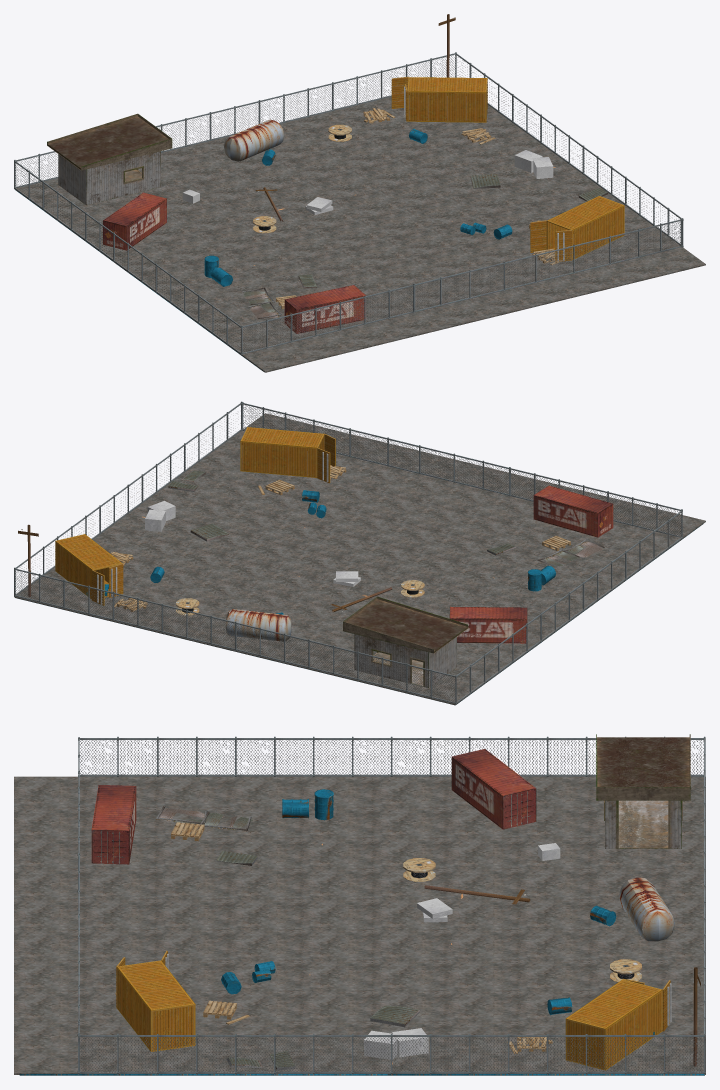
File: Environment 3.fbx
The picture shows the model from 3 angles, top to bottom: view 1: azimuth 30°, elevation 25°; view 2: azimuth 150°, elevation 25°; view 3: azimuth 270°, elevation 25°; orthographic projection. The views are drawn at different scales.
Parts seen in each view (by area): view 1: Cube_1_texture_4_0, fence_001_6_env_texture_1_0, Cube_DefaultMaterial_0, container_8_atlas_factory_0, container_6_atlas_factory_0, default_16_006_Cargo0_0, default_16_001_Cargo0_0, default_16_004_Tank_0, default_16_003_Fence_0; view 2: Cube_1_texture_4_0, fence_001_6_env_texture_1_0, Cube_DefaultMaterial_0, container_6_atlas_factory_0, default_16_006_Cargo0_0, default_16_001_Cargo0_0, container_8_atlas_factory_0, default_16_004_Tank_0, default_16_003_Fence_0; view 3: Cube_1_texture_4_0, fence_001_6_env_texture_1_0, Cube_DefaultMaterial_0, container_8_atlas_factory_0, container_6_atlas_factory_0, default_16_001_Cargo0_0, default_16_006_Cargo0_0, default_16_004_Tank_0, ground_debris6_001_texture_4_0, default_16_003_Fence_0, box_env_texture_1_0, box1_env_texture_1_0 (+4 smaller).
Boxes of the visible parts, <box> form: Cube_1_texture_4_0: <box>15,96,705,372</box>; fence_001_6_env_texture_1_0: <box>14,52,683,354</box>; Cube_DefaultMaterial_0: <box>47,113,172,205</box>; container_8_atlas_factory_0: <box>407,77,487,122</box>; container_6_atlas_factory_0: <box>546,196,624,259</box>; default_16_006_Cargo0_0: <box>284,285,365,333</box>; default_16_001_Cargo0_0: <box>103,192,166,250</box>; default_16_004_Tank_0: <box>224,119,284,161</box>; default_16_003_Fence_0: <box>242,287,281,319</box>; Cube_1_texture_4_0: <box>14,413,705,705</box>; fence_001_6_env_texture_1_0: <box>14,401,682,704</box>; Cube_DefaultMaterial_0: <box>343,596,468,688</box>; container_6_atlas_factory_0: <box>240,427,324,477</box>; default_16_006_Cargo0_0: <box>533,485,613,537</box>; default_16_001_Cargo0_0: <box>449,606,527,643</box>; container_8_atlas_factory_0: <box>55,534,122,599</box>; default_16_004_Tank_0: <box>225,609,291,641</box>; default_16_003_Fence_0: <box>537,539,604,567</box>; Cube_1_texture_4_0: <box>14,776,705,1074</box>; fence_001_6_env_texture_1_0: <box>77,736,705,1074</box>; Cube_DefaultMaterial_0: <box>596,734,690,848</box>; container_8_atlas_factory_0: <box>565,979,662,1070</box>; container_6_atlas_factory_0: <box>117,960,195,1051</box>; default_16_001_Cargo0_0: <box>451,749,536,829</box>; default_16_006_Cargo0_0: <box>91,785,136,864</box>; default_16_004_Tank_0: <box>618,877,674,941</box>; ground_debris6_001_texture_4_0: <box>19,1074,704,1075</box>; default_16_003_Fence_0: <box>156,806,253,831</box>; box_env_texture_1_0: <box>364,1030,400,1059</box>; box1_env_texture_1_0: <box>392,1028,428,1057</box>.
Size of the model in its own units: 2924 by 468 by 2871.
Materials: 11 (11 with a texture image).
